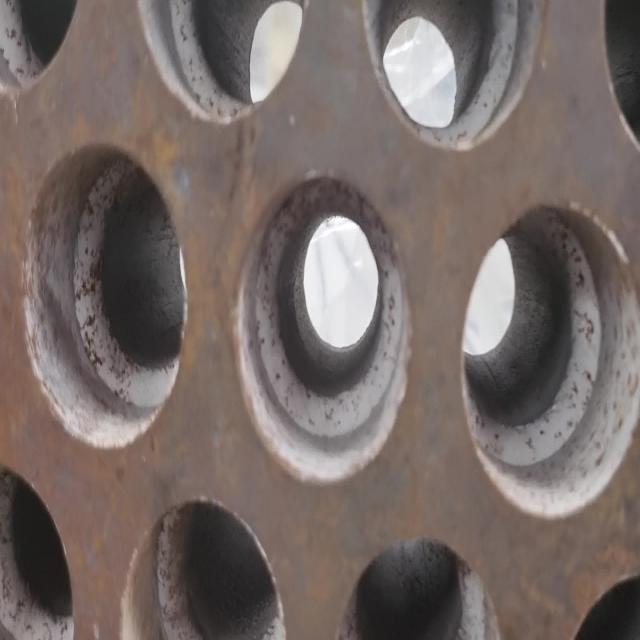Hole: (461, 202, 637, 522), (233, 171, 412, 485), (22, 141, 187, 449), (361, 0, 542, 154), (120, 496, 288, 639), (134, 1, 309, 125)
